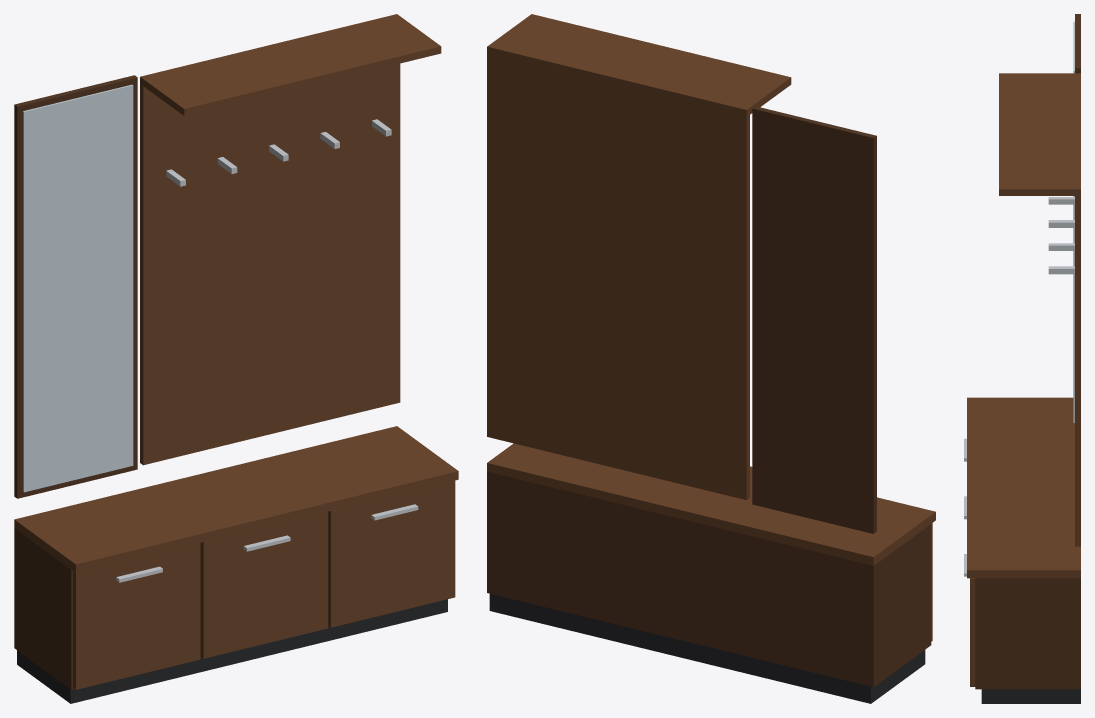
Rendered from vestiyer-1400-ceviz.glb.
The picture shows the model from 3 angles, left to right: view 1: azimuth 30°, elevation 25°; view 2: azimuth 150°, elevation 25°; view 3: azimuth 270°, elevation 25°; orthographic projection. The views are drawn at different scales.
Visible parts, largest first — view 1: mobilya; view 2: mobilya; view 3: mobilya.
Boxes of the visible parts, left/top/right/bottom form: mobilya: left=14, top=14, right=458, bottom=703; mobilya: left=487, top=14, right=935, bottom=703; mobilya: left=964, top=14, right=1080, bottom=703.
Size of the model in its own units: 1.4 by 1.96 by 0.4.
